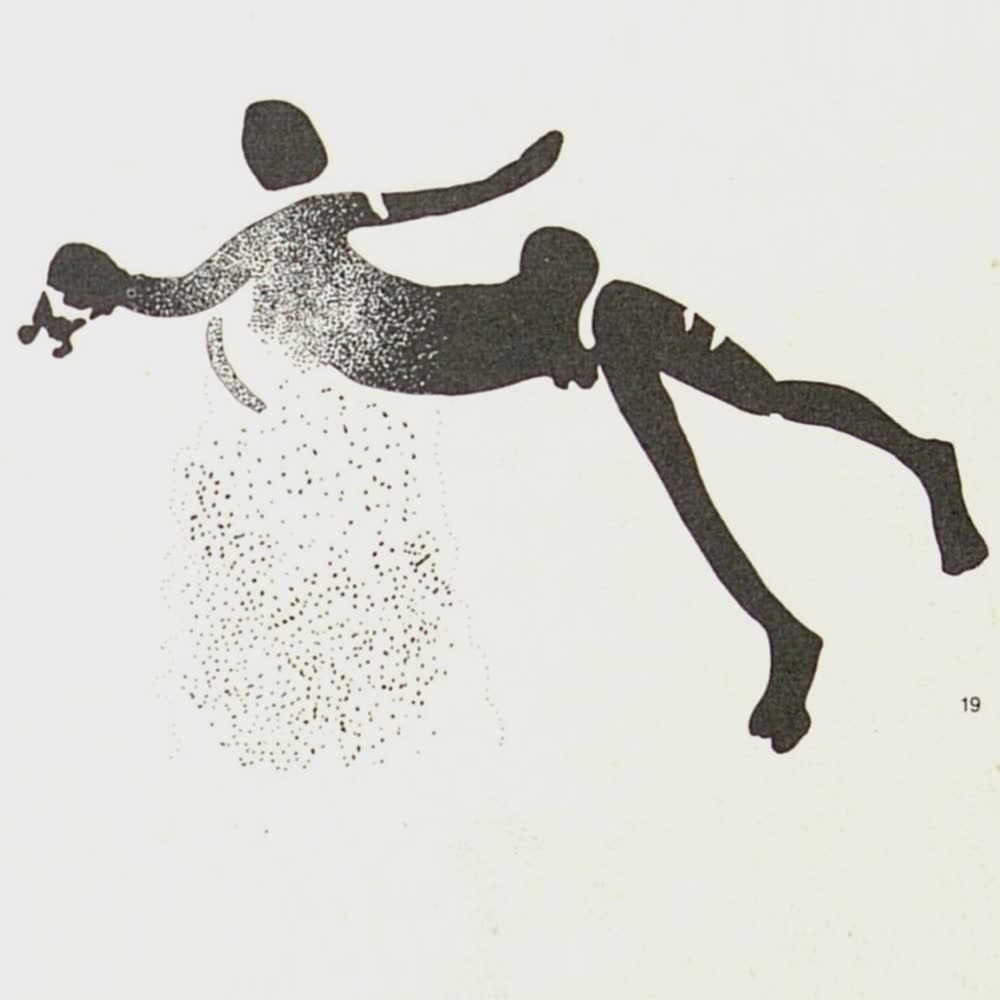woman: (15, 99, 995, 756)
